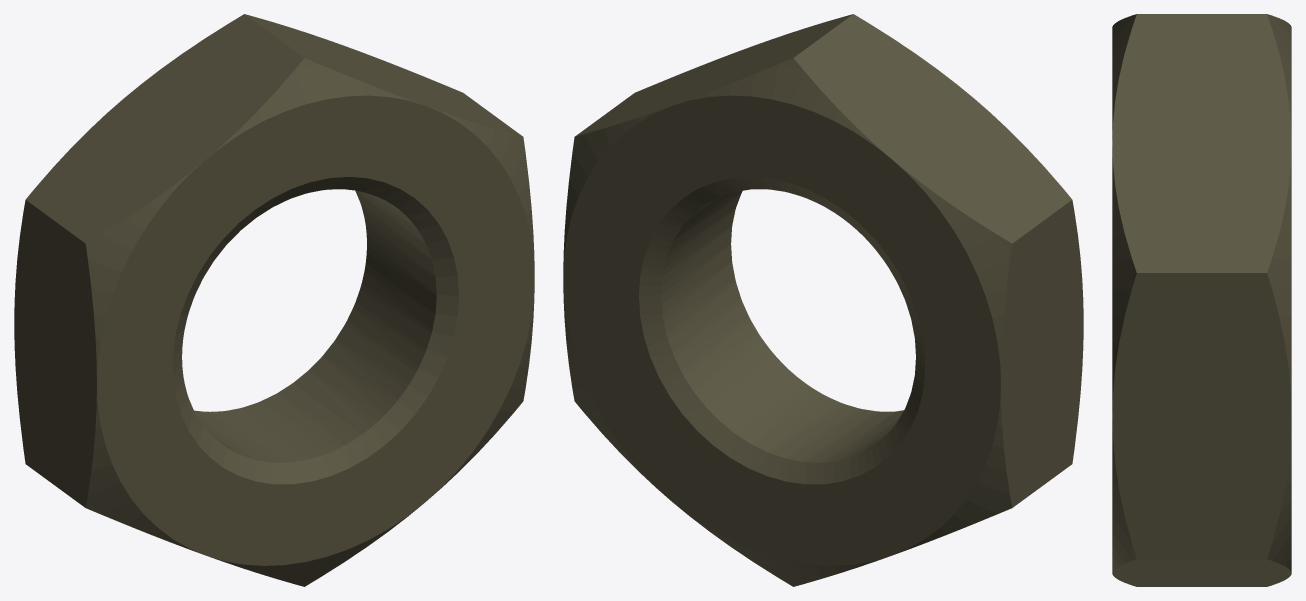
Rendered from Oc_LucGiac.glb.
3 renders of one model, left to right at view 1: azimuth 30°, elevation 25°; view 2: azimuth 150°, elevation 25°; view 3: azimuth 270°, elevation 25°, orthographic. The views are drawn at different scales.
Visible parts, largest first — view 1: defaultobject; view 2: defaultobject; view 3: defaultobject.
Part boxes in pixels (box(x1,y1,x2,y2)): defaultobject: box(14, 14, 534, 586); defaultobject: box(563, 14, 1083, 586); defaultobject: box(1112, 14, 1291, 586).
Bounding box in the file's own units: 20.61 × 23.8 × 6.75.
